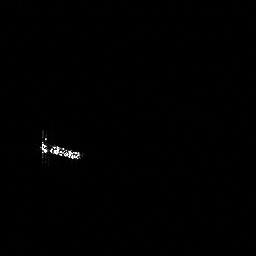ship: (36, 130, 85, 166)
